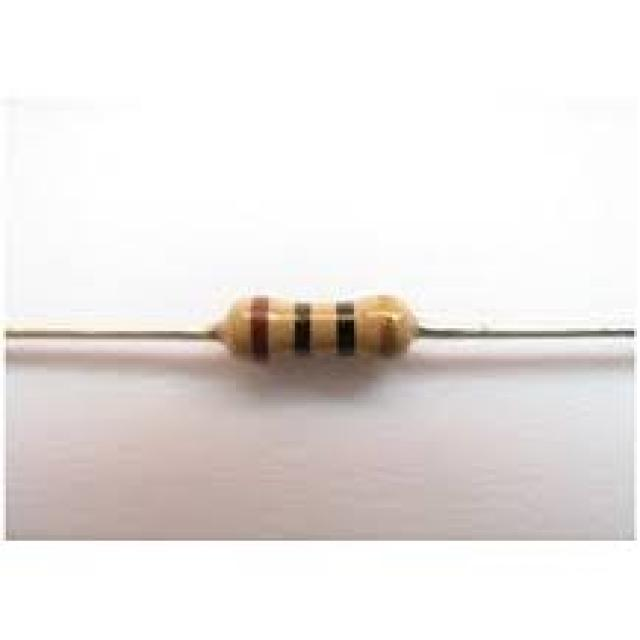Resistor: (216, 272, 463, 402)
